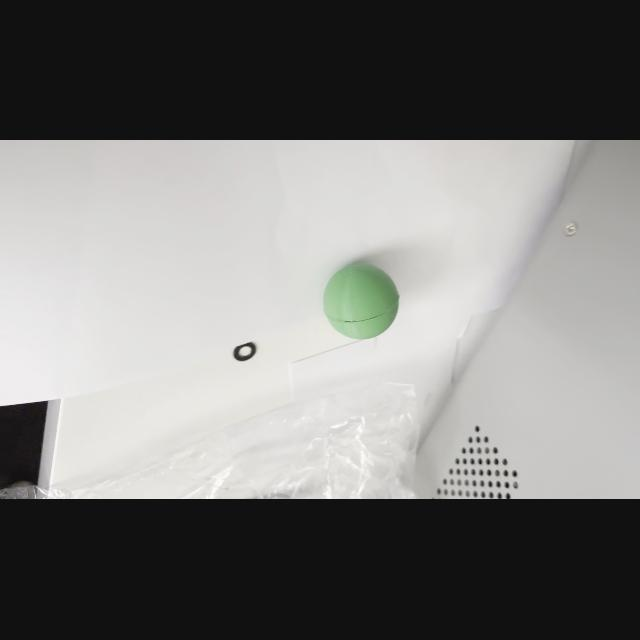objects: (317, 256, 403, 344)
